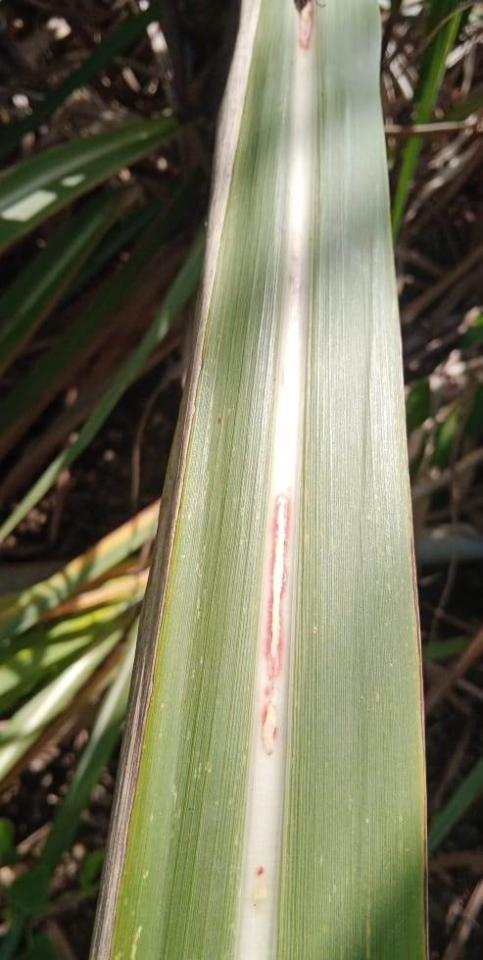RedRot: (259, 490, 292, 757), (298, 0, 316, 51), (251, 858, 267, 882)
